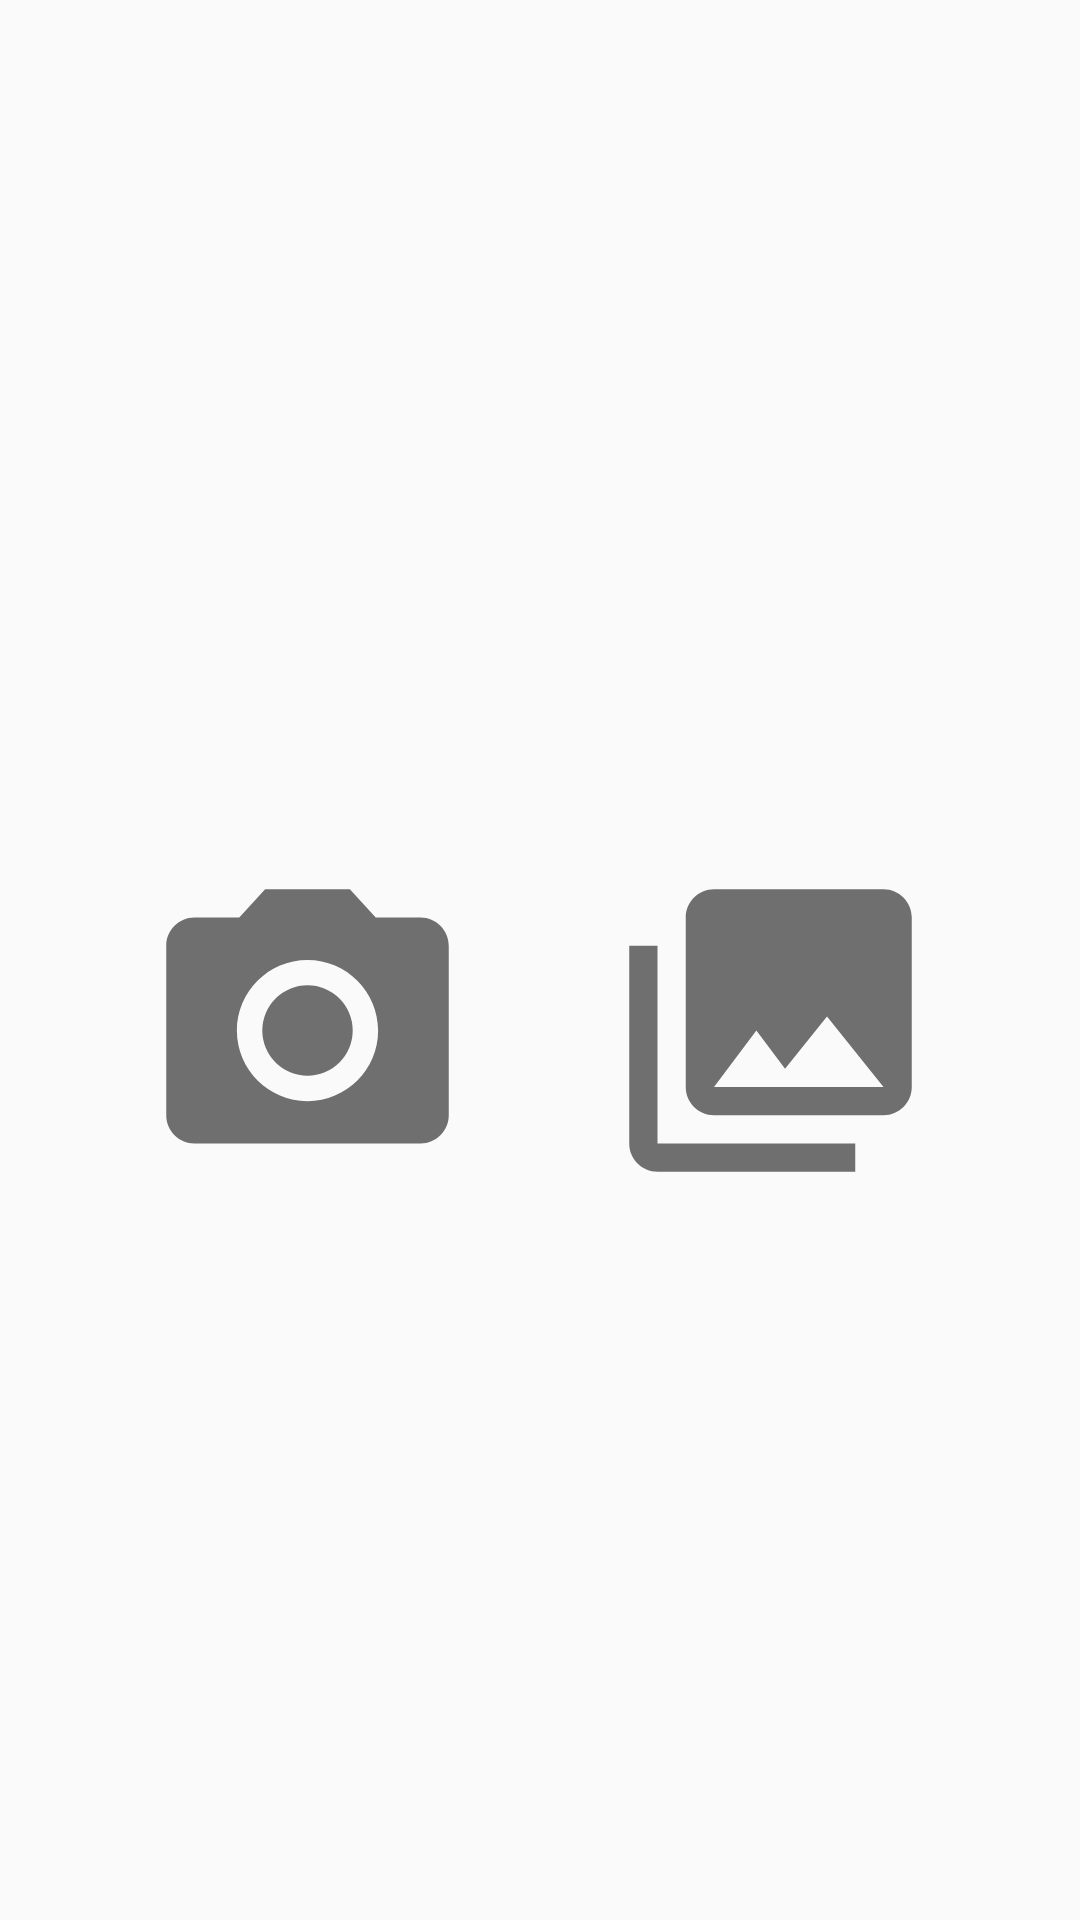

Icons on this 1080 × 1920 Android screen, each with the point to tap as (x,y):
pick up from gallery: (770,1030)
Take a photo: (307,1016)
